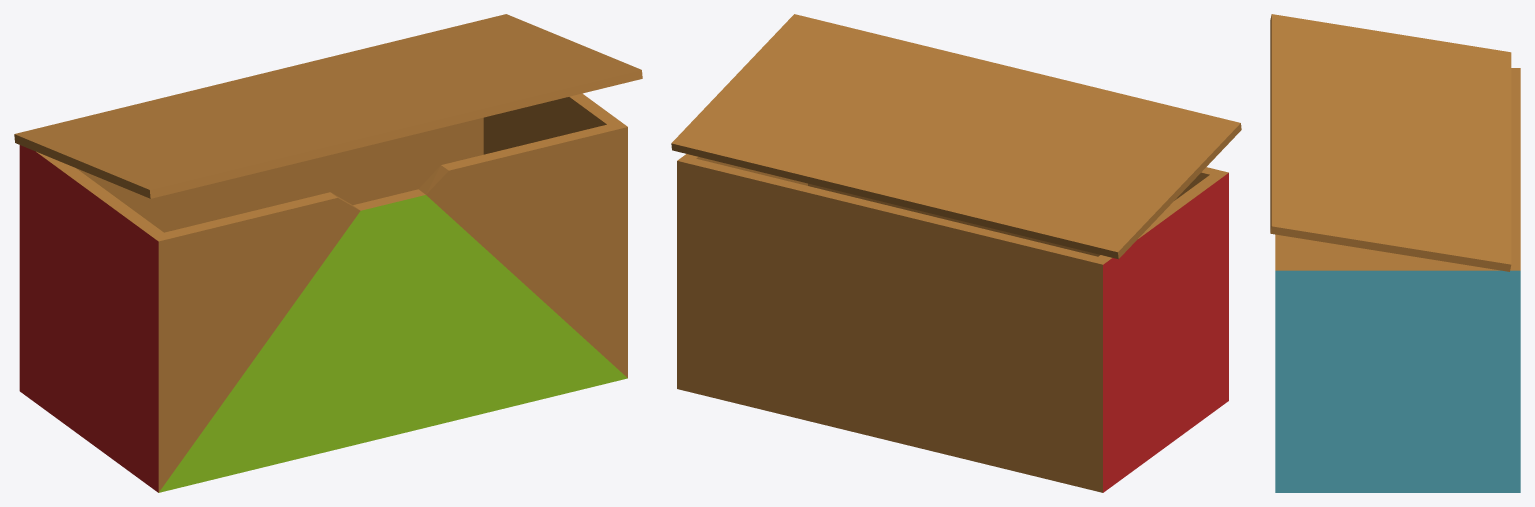
The model's file is SM_ToyBox.FBX.
3 views of the same model, side by side, from view 1: azimuth 30°, elevation 25°; view 2: azimuth 150°, elevation 25°; view 3: azimuth 270°, elevation 25° (orthographic). The views are drawn at different scales.
Visible parts, largest first — view 1: Box003; view 2: Box003; view 3: Box003.
Part boxes in pixels (box(x1,y1,x2,y2)): Box003: box(14, 14, 642, 492); Box003: box(671, 14, 1241, 492); Box003: box(1270, 14, 1520, 492).
Bounding box in the file's own units: 170 × 102 × 85.03.
